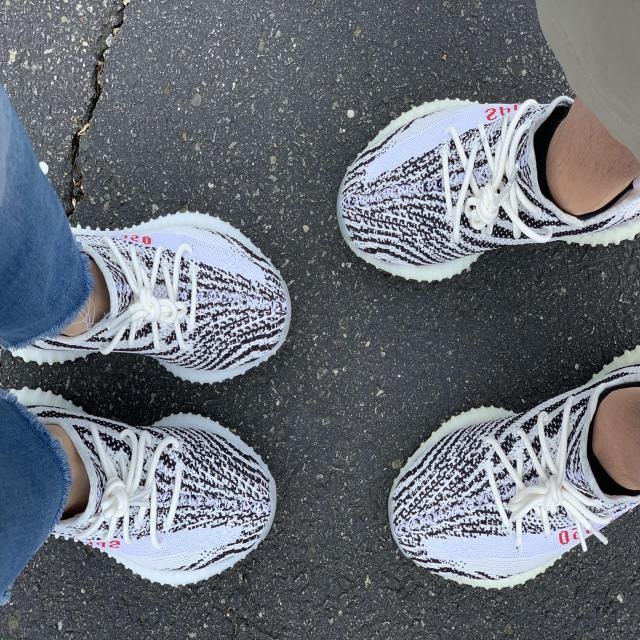shoes: (383, 334, 640, 597), (334, 89, 640, 292), (0, 383, 282, 597), (0, 201, 301, 387)
